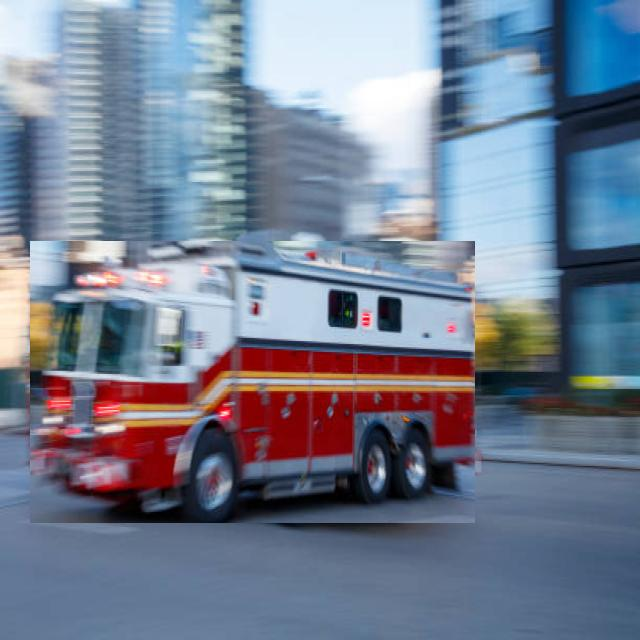emergency: (30, 242, 475, 523)
